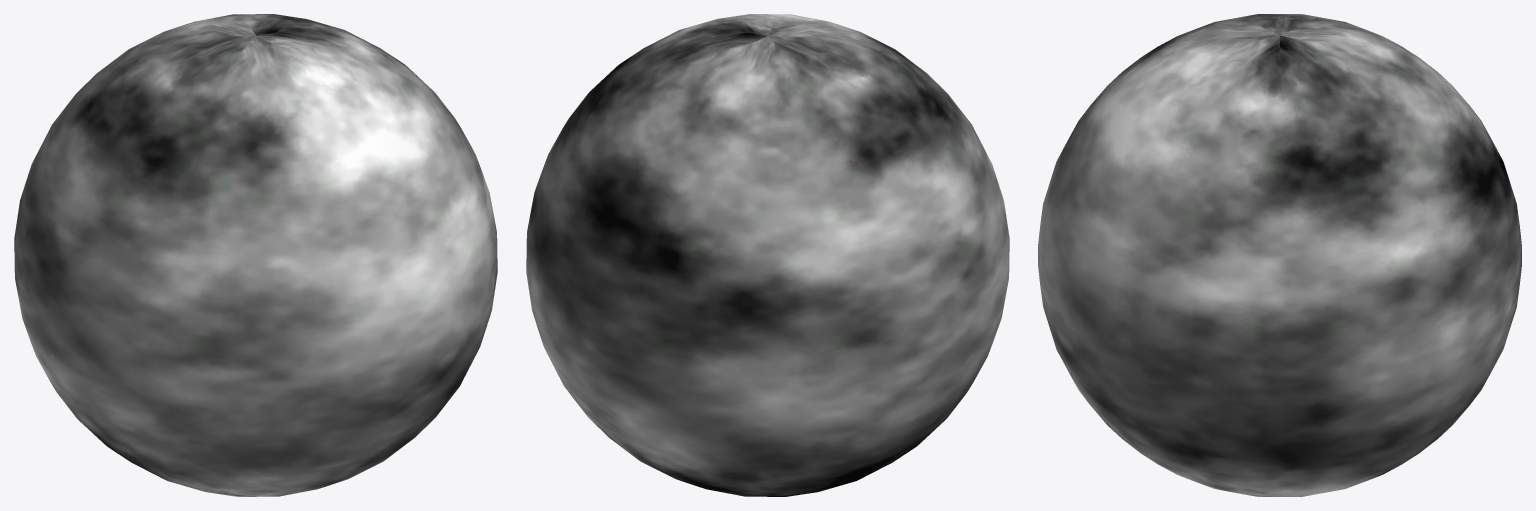
The model's file is shuijingqiu.FBX.
The picture shows the model from 3 angles, left to right: view 1: azimuth 30°, elevation 25°; view 2: azimuth 150°, elevation 25°; view 3: azimuth 270°, elevation 25°; orthographic projection.
Visible parts, largest first — view 1: GeoSphere001; view 2: GeoSphere001; view 3: GeoSphere001.
Part boxes in pixels (x1=…): GeoSphere001: x1=14, y1=14, x2=497, y2=496; GeoSphere001: x1=526, y1=14, x2=1009, y2=496; GeoSphere001: x1=1038, y1=14, x2=1521, y2=496.
Size of the model in its own units: 70.14 by 70.32 by 70.1.
